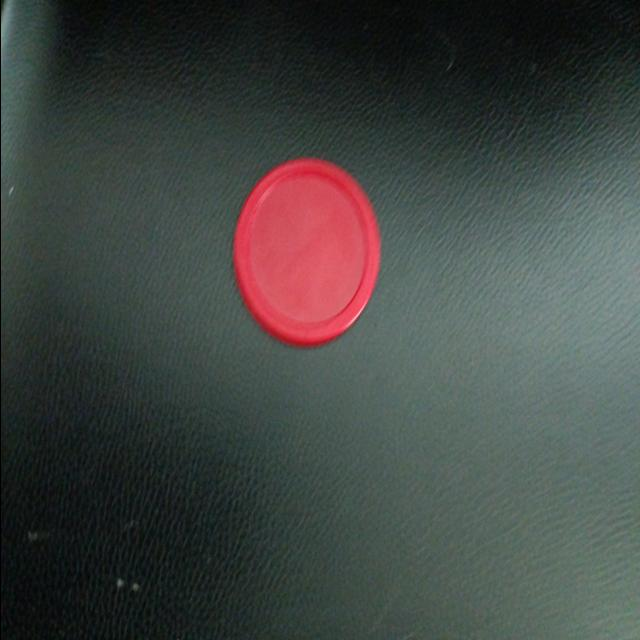chip: (228, 152, 382, 352)
